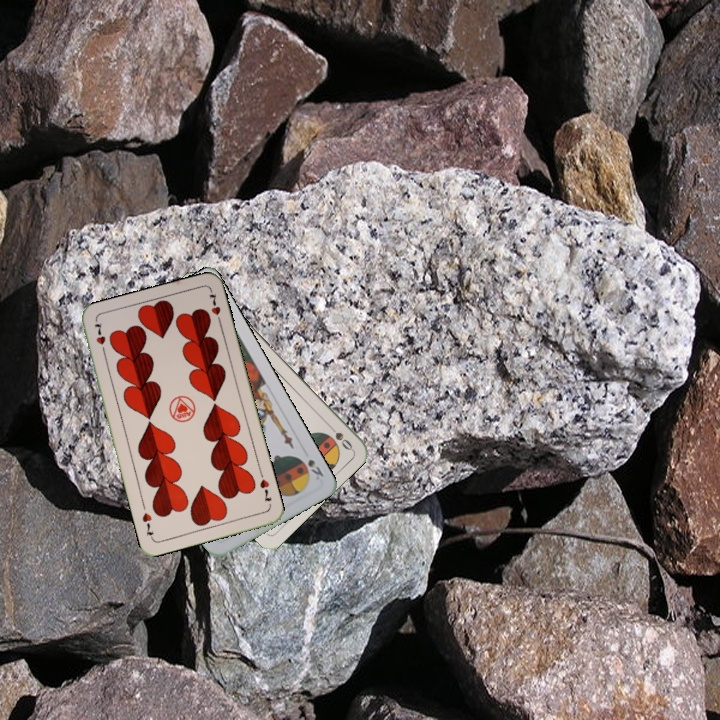H7: (90, 319, 109, 358), (256, 475, 274, 505)
SK: (304, 455, 326, 483)
SO: (323, 420, 355, 453)
